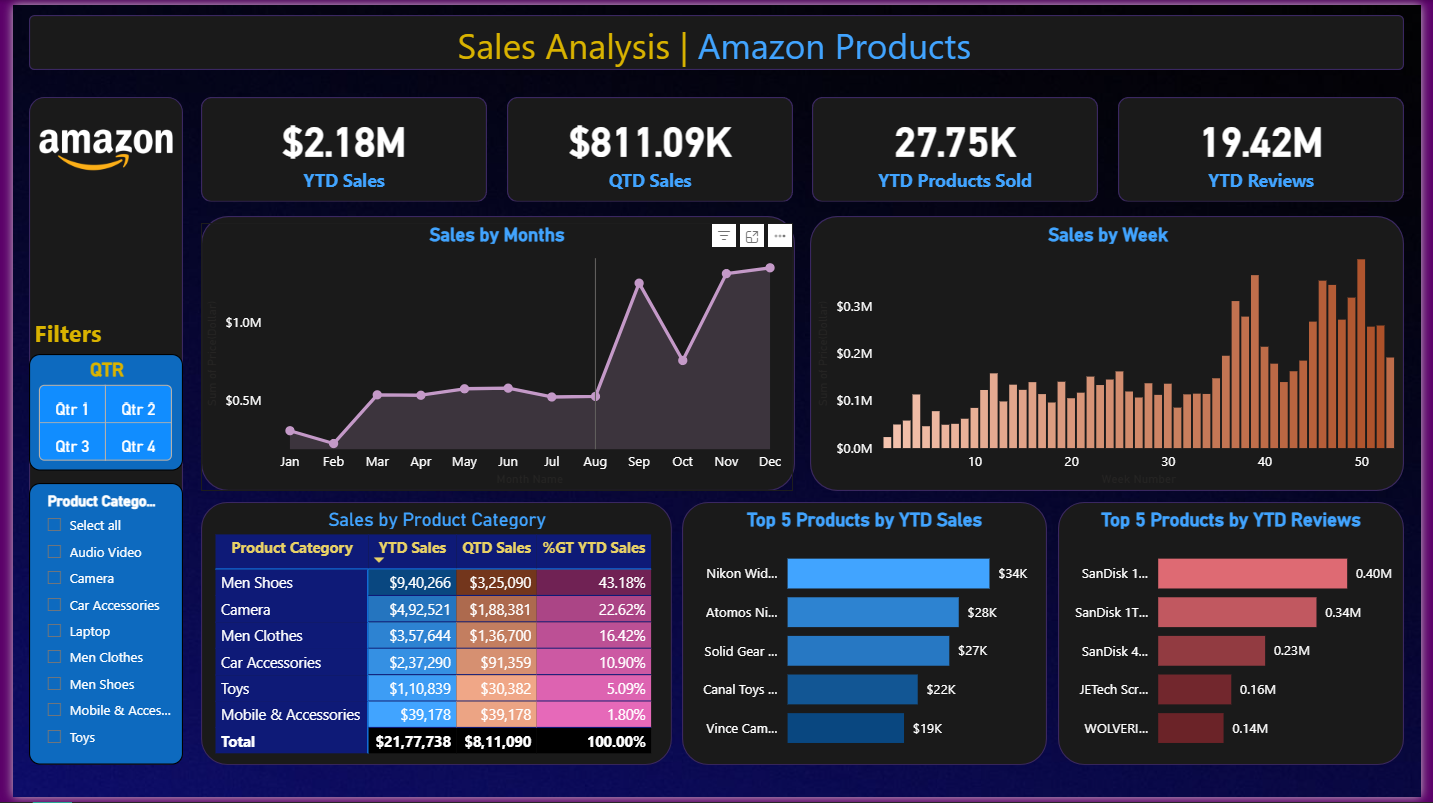

This screenshot's page, from the dashboard's own definition file:
{"tool":"powerbi","page":{"name":"Page 1","canvas":[1280,720],"ordinal":0},"visuals":[{"type":"shape","box":[14.5,83.6,140,607.3],"z":0},{"type":"shape","box":[14.5,9.1,1250,50],"z":1000},{"type":"shape","box":[170.9,83.6,260,95.5],"z":2000},{"type":"card","fields":{"Values":["Amazon_Data.YTD Sales"]},"box":[170.9,83.6,260,95.5],"z":3000},{"type":"shape","box":[726.7,83.6,260,95.5],"z":4000},{"type":"shape","box":[448.8,83.6,260,95.5],"z":5000},{"type":"shape","box":[1004.5,83.6,260,95.5],"z":6000},{"type":"card","fields":{"Values":["Amazon_Data.QTD Sales"]},"box":[449.1,83.6,260,95.5],"z":7000},{"type":"card","fields":{"Values":["Amazon_Data.YTD Products Sold"]},"box":[726.4,83.6,260,95.5],"z":8000},{"type":"card","fields":{"Values":["Amazon_Data.YTD Reviews"]},"box":[1004.5,83.6,260,95.5],"z":9000},{"type":"textbox","box":[399.1,9.1,522.7,56.4],"z":10000},{"type":"shape","box":[170.9,191.8,540,250],"z":11000},{"type":"areaChart","title":"Sales by Months","fields":{"Category":["Date Table.Month Name"],"Y":["Sum(Amazon_Data.Price(Dollar))"]},"box":[170.9,198.2,538.2,243.6],"z":12000},{"type":"shape","box":[724.5,191.8,540,250],"z":13000},{"type":"columnChart","title":"Sales by Week","fields":{"Category":["Date Table.Week Number"],"Y":["Sum(Amazon_Data.Price(Dollar))"]},"box":[726.4,198.2,538.2,243.6],"z":14000},{"type":"shape","box":[170.9,451.8,428.2,239.1],"z":15000},{"type":"pivotTable","title":"Sales by Product Category","fields":{"Rows":["Amazon_Data.Product Category"],"Values":["Amazon_Data.YTD Sales","Amazon_Data.QTD Sales1","Divide(Amazon_Data.YTD Sales, ScopedEval(Amazon_Data.YTD Sales, []))"]},"box":[179.1,457.3,412.7,228.2],"z":16000},{"type":"shape","box":[608.2,451.8,331.8,239.1],"z":17000},{"type":"shape","box":[950,451.8,314.5,239.1],"z":18000},{"type":"clusteredBarChart","title":"Top 5 Products by YTD Sales","fields":{"Category":["Amazon_Data.Product Description"],"Y":["Amazon_Data.YTD Sales"]},"box":[608.2,457.3,331.8,233.6],"z":19000},{"type":"clusteredBarChart","title":"Top 5 Products by YTD Reviews","fields":{"Category":["Amazon_Data.Product Description"],"Y":["Amazon_Data.YTD Reviews"]},"box":[949.1,457.3,316.4,233.6],"z":20000},{"type":"textbox","box":[14.5,278.2,94.5,39.1],"z":24000},{"type":"slicer","fields":{"Values":["Amazon_Data.Product Category"]},"box":[14.5,434.5,140,256.4],"z":25000},{"type":"advancedSlicerVisual","fields":{"Values":["Date Table.QTR"]},"box":[14.5,317.3,140,106.4],"z":25500},{"type":"image","box":[14.5,83.6,140,95.5],"z":26000}]}

Visuals, with their boxes in screenshot pixels (x1, y1, x2, y2), scaled from the page's 1280x720 canvas onto the 1433x803 screenshot:
shape: crop(16, 93, 173, 771)
shape: crop(16, 10, 1416, 66)
shape: crop(191, 93, 482, 200)
card - Amazon_Data.YTD Sales: crop(191, 93, 482, 200)
shape: crop(814, 93, 1105, 200)
shape: crop(502, 93, 794, 200)
shape: crop(1125, 93, 1416, 200)
card - Amazon_Data.QTD Sales: crop(503, 93, 794, 200)
card - Amazon_Data.YTD Products Sold: crop(813, 93, 1104, 200)
card - Amazon_Data.YTD Reviews: crop(1125, 93, 1416, 200)
textbox: crop(447, 10, 1032, 73)
shape: crop(191, 214, 796, 493)
"Sales by Months" areaChart: crop(191, 221, 794, 493)
shape: crop(811, 214, 1416, 493)
"Sales by Week" columnChart: crop(813, 221, 1416, 493)
shape: crop(191, 504, 671, 771)
"Sales by Product Category" pivotTable: crop(201, 510, 663, 765)
shape: crop(681, 504, 1052, 771)
shape: crop(1064, 504, 1416, 771)
"Top 5 Products by YTD Sales" clusteredBarChart: crop(681, 510, 1052, 771)
"Top 5 Products by YTD Reviews" clusteredBarChart: crop(1063, 510, 1417, 771)
textbox: crop(16, 310, 122, 354)
slicer - Amazon_Data.Product Category: crop(16, 485, 173, 771)
advancedSlicerVisual - Date Table.QTR: crop(16, 354, 173, 473)
image: crop(16, 93, 173, 200)
